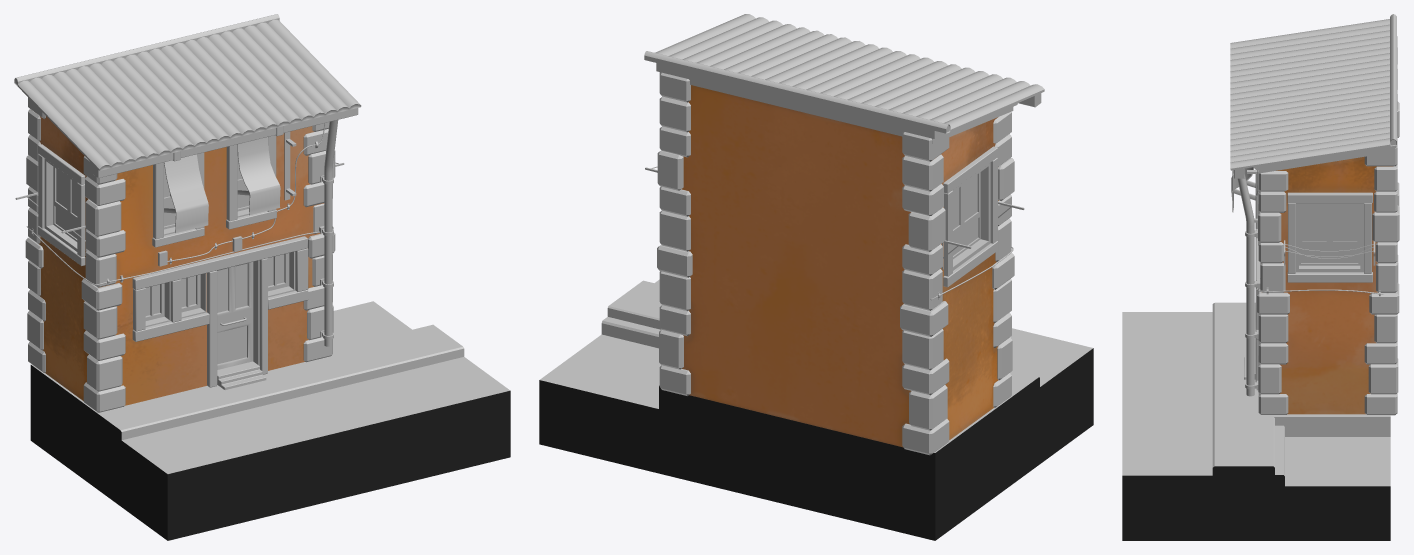
3 renders of one model, left to right at view 1: azimuth 30°, elevation 25°; view 2: azimuth 150°, elevation 25°; view 3: azimuth 270°, elevation 25°, orthographic. The views are drawn at different scales.
Parts seen in each view (by area): view 1: Pierre_low.001, Pierre_low.003, Pierre_low.004; view 2: Pierre_low.001, Pierre_low.003, Pierre_low.004; view 3: Pierre_low.001, Pierre_low.003, Pierre_low.004.
Part boxes in pixels (x1,y1,x2,y2): Pierre_low.001: (14, 14, 510, 540); Pierre_low.003: (39, 116, 323, 405); Pierre_low.004: (25, 97, 335, 412); Pierre_low.001: (539, 14, 1093, 540); Pierre_low.003: (681, 85, 998, 447); Pierre_low.004: (657, 72, 1014, 455); Pierre_low.001: (1122, 14, 1396, 540); Pierre_low.003: (1261, 156, 1393, 414); Pierre_low.004: (1257, 36, 1399, 415).
Bounding box in the file's own units: 4.68 × 4.46 × 3.14.
